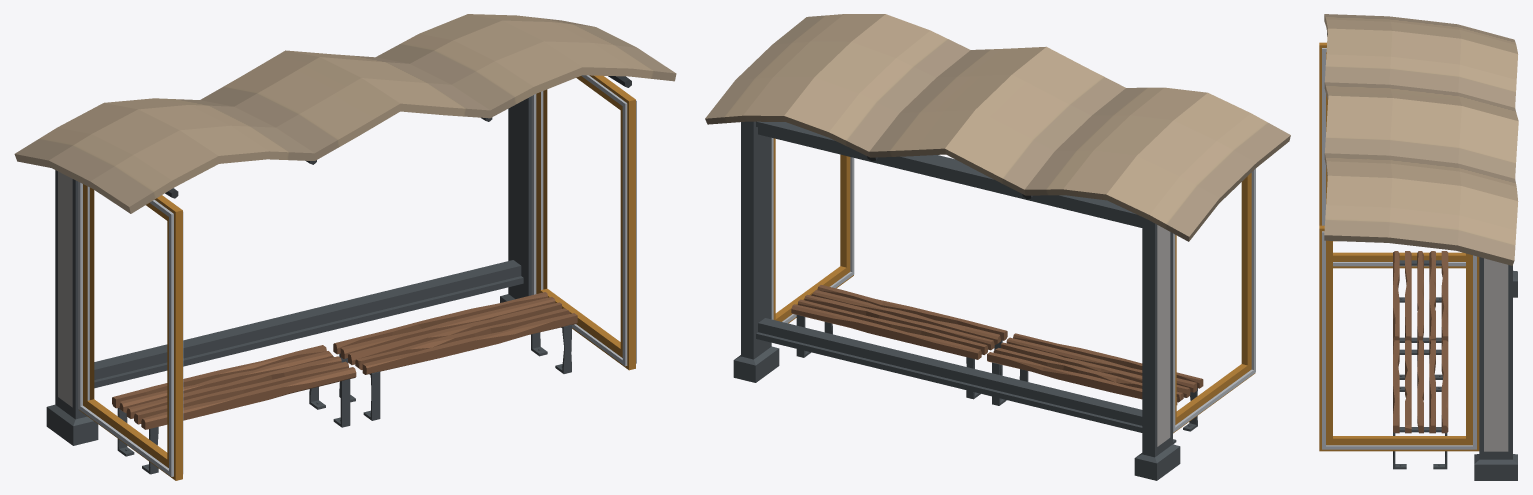
The model's file is SM_Prop_BusStop_01.obj.
3 views of the same model, side by side, from view 1: azimuth 30°, elevation 25°; view 2: azimuth 150°, elevation 25°; view 3: azimuth 270°, elevation 25° (orthographic). The views are drawn at different scales.
Visible parts, largest first — view 1: SM_Prop_BusStop_01_0; view 2: SM_Prop_BusStop_01_0; view 3: SM_Prop_BusStop_01_0.
Part boxes in pixels (box(x1,y1,x2,y2)): SM_Prop_BusStop_01_0: box(14, 14, 676, 480); SM_Prop_BusStop_01_0: box(705, 14, 1290, 480); SM_Prop_BusStop_01_0: box(1319, 14, 1518, 480).
Size of the model in its own units: 4.83 by 2.94 by 1.84.
Materials: 1 (1 with a texture image).
